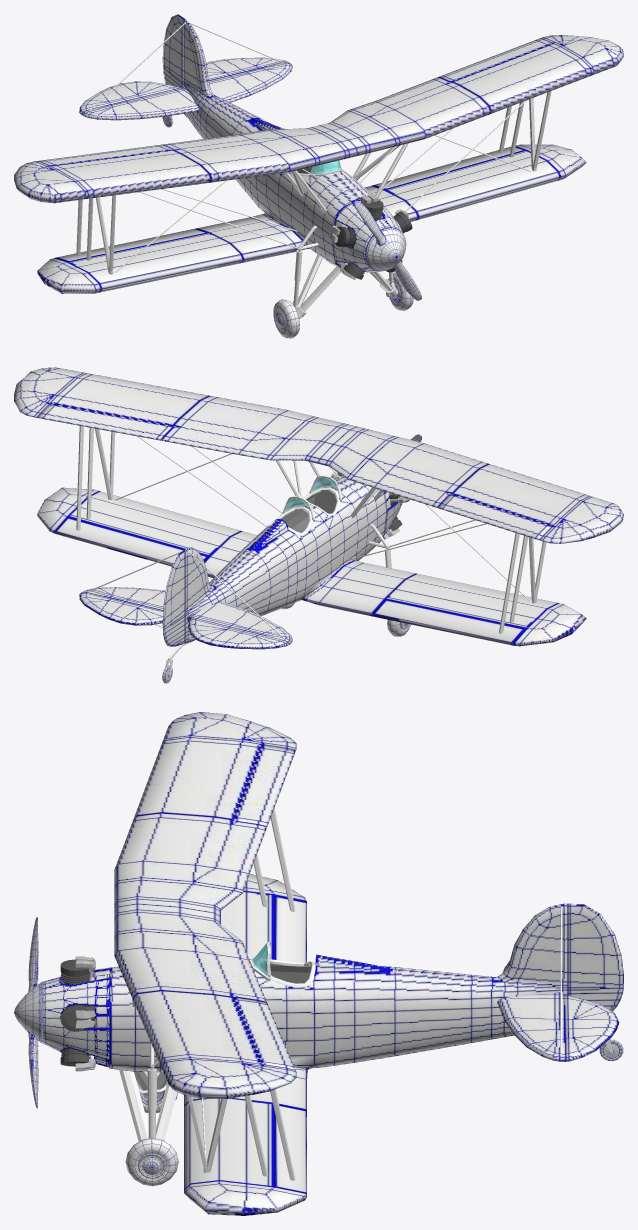
Rendered from Biplane.obj.
The picture shows the model from 3 angles, top to bottom: view 1: azimuth 30°, elevation 25°; view 2: azimuth 150°, elevation 25°; view 3: azimuth 270°, elevation 25°; orthographic projection. The views are drawn at different scales.
Parts seen in each view (by area): view 1: TopWing, Fuselage, TailHoriz, WingStruts, Elevator, SpanWires, EngCowling1, Engine, Rudder, PropCone, L_TopAileron, LBotAileron (+6 smaller); view 2: Fuselage, TopWing, Elevator, WingStruts, RBotAileron, TailHoriz, LBotAileron, L_TopAileron, R_TopAileron, Rudder, SpanWires, CockpitTrim (+2 smaller); view 3: TopWing, Fuselage, Rudder, EngCowling1, TailHoriz, R_TopAileron, Elevator, LBotAileron, Engine, L_TopAileron, RBotAileron, LWheel (+4 smaller).
Part boxes in pixels (bbox=[...]): TopWing: bbox=[14, 35, 623, 203]; Fuselage: bbox=[37, 18, 586, 293]; TailHoriz: bbox=[81, 61, 292, 120]; WingStruts: bbox=[86, 91, 551, 274]; Elevator: bbox=[79, 57, 286, 113]; SpanWires: bbox=[88, 22, 531, 273]; EngCowling1: bbox=[333, 202, 403, 272]; Engine: bbox=[328, 194, 412, 280]; Rudder: bbox=[162, 14, 183, 87]; PropCone: bbox=[365, 227, 406, 271]; L_TopAileron: bbox=[438, 38, 551, 81]; LBotAileron: bbox=[373, 146, 525, 189]; Fuselage: bbox=[37, 475, 586, 646]; TopWing: bbox=[14, 367, 623, 543]; Elevator: bbox=[79, 592, 289, 649]; WingStruts: bbox=[86, 427, 546, 622]; RBotAileron: bbox=[373, 599, 525, 645]; TailHoriz: bbox=[83, 587, 292, 643]; LBotAileron: bbox=[55, 517, 208, 566]; L_TopAileron: bbox=[37, 403, 173, 440]; R_TopAileron: bbox=[438, 493, 552, 540]; Rudder: bbox=[162, 550, 185, 646]; SpanWires: bbox=[88, 436, 531, 638]; CockpitTrim: bbox=[267, 487, 340, 535]; TopWing: bbox=[114, 712, 296, 1098]; Fuselage: bbox=[109, 874, 567, 1215]; Rudder: bbox=[567, 903, 623, 1011]; EngCowling1: bbox=[42, 967, 109, 1067]; TailHoriz: bbox=[497, 960, 565, 1061]; R_TopAileron: bbox=[233, 744, 295, 826]; Elevator: bbox=[563, 994, 619, 1061]; LBotAileron: bbox=[274, 1105, 306, 1193]; Engine: bbox=[60, 956, 95, 1071]; L_TopAileron: bbox=[233, 996, 295, 1069]; RBotAileron: bbox=[274, 895, 306, 962]; LWheel: bbox=[125, 1138, 178, 1186].
Bounding box in the file's own units: 8.14 × 2.54 × 5.53.
